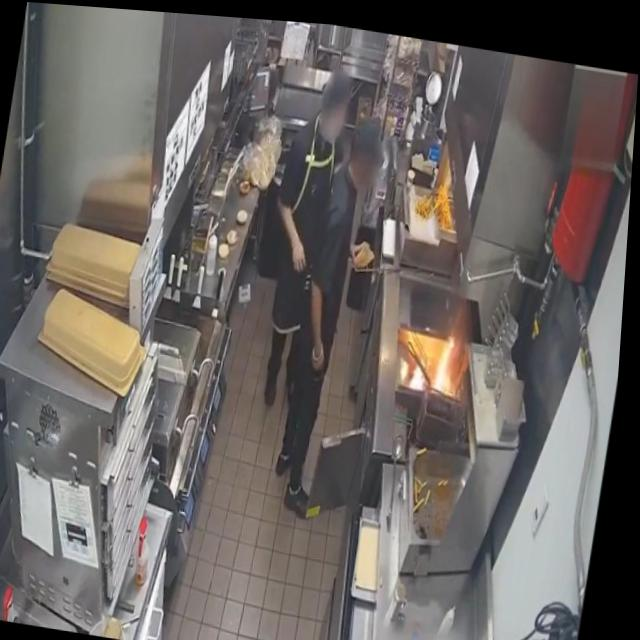fire: (407, 318, 471, 392)
